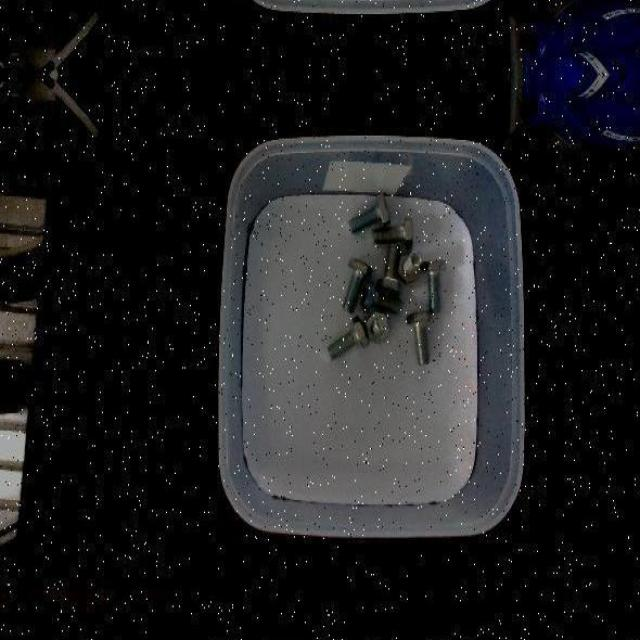screw: (326, 314, 369, 360), (348, 193, 391, 235), (342, 257, 372, 312), (406, 309, 433, 364), (420, 258, 447, 312), (376, 243, 402, 297), (374, 216, 414, 250), (364, 310, 388, 342), (399, 250, 421, 284)
